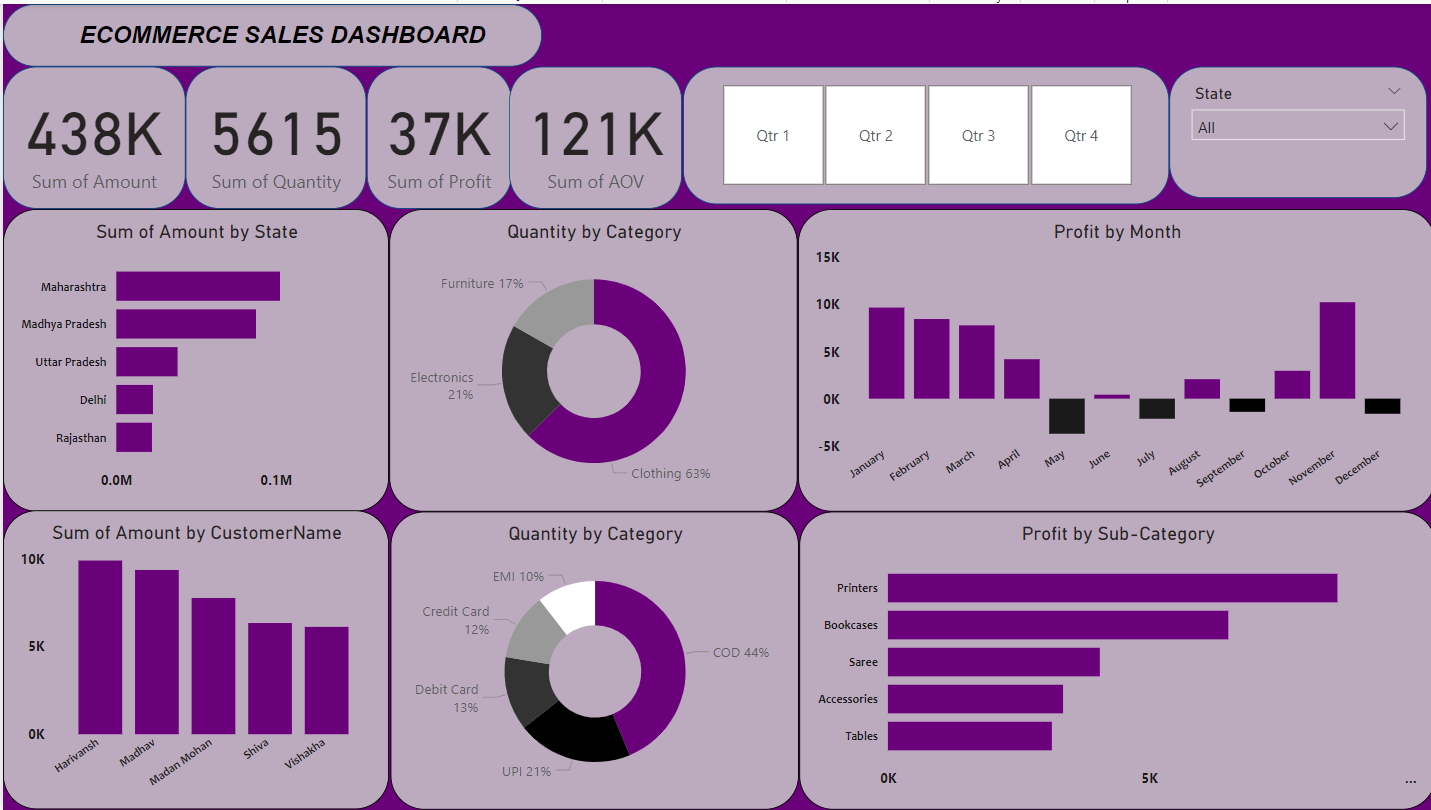

The page's visual inventory and layout, read from the dashboard file:
{"tool":"powerbi","page":{"name":"Page 1","canvas":[1280,720],"ordinal":0},"visuals":[{"type":"textbox","box":[0,0,602.3,65.1],"z":0},{"type":"columnChart","title":"      Profit by Month","fields":{"Category":["Ordersss.Order Date.Variation.Date Hierarchy.Month"],"Y":["Sum(Detailsss.Profit)"]},"box":[710.2,183.1,569.5,270.2],"z":1000},{"type":"barChart","title":"Profit by Sub-Category","fields":{"Category":["Detailsss.Sub-Category"],"Y":["Sum(Detailsss.Profit)"]},"box":[711.6,453.5,568.6,266.3],"z":2000},{"type":"donutChart","title":"Quantity by Category","fields":{"Category":["Detailsss.PaymentMode"],"Y":["Sum(Detailsss.Quantity)"]},"box":[346.5,453.5,365.1,266.3],"z":3000},{"type":"donutChart","title":"Quantity by Category","fields":{"Category":["Detailsss.Category"],"Y":["Sum(Detailsss.Quantity)"]},"box":[345,183.1,365.1,270.2],"z":4000},{"type":"card","fields":{"Values":["Sum(Detailsss.Amount)"]},"box":[0,65.1,211.6,117.4],"z":5000},{"type":"card","fields":{"Values":["Sum(Detailsss.Quantity)"]},"box":[211.6,65.1,200,117.4],"z":6000},{"type":"card","fields":{"Values":["Sum(Detailsss.Profit)"]},"box":[411.6,65.1,227.9,117.4],"z":7000},{"type":"card","fields":{"Values":["Sum(Detailsss.AOV)"]},"box":[636,65.1,243,117.4],"z":8000},{"type":"barChart","title":"Sum of Amount by State","fields":{"Category":["Ordersss.State"],"Y":["Sum(Detailsss.Amount)"]},"box":[0,183.1,345,270.2],"z":9000},{"type":"columnChart","fields":{"Category":["Ordersss.CustomerName"],"Y":["Sum(Detailsss.Amount)"]},"box":[0,452.2,345,266.9],"z":10000},{"type":"slicer","fields":{"Values":["Ordersss.Order Date.Variation.Date Hierarchy.Quarter"]},"box":[879.1,0,397.7,65.1],"z":11000},{"type":"slicer","fields":{"Values":["Ordersss.State"]},"box":[879.1,65.1,401.2,117.4],"z":12000}]}

Visuals, with their boxes in screenshot pixels (x1, y1, x2, y2), scaled from the page's 1280x720 canvas onto the 1431x810 screenshot:
textbox: bbox=(0, 0, 673, 73)
"      Profit by Month" columnChart: bbox=(794, 206, 1430, 510)
"Profit by Sub-Category" barChart: bbox=(796, 510, 1430, 809)
"Quantity by Category" donutChart: bbox=(387, 510, 796, 809)
"Quantity by Category" donutChart: bbox=(386, 206, 794, 510)
card - Sum(Detailsss.Amount): bbox=(0, 73, 237, 205)
card - Sum(Detailsss.Quantity): bbox=(237, 73, 460, 205)
card - Sum(Detailsss.Profit): bbox=(460, 73, 715, 205)
card - Sum(Detailsss.AOV): bbox=(711, 73, 983, 205)
"Sum of Amount by State" barChart: bbox=(0, 206, 386, 510)
columnChart - Ordersss.CustomerName x Sum(Detailsss.Amount): bbox=(0, 509, 386, 809)
slicer - Ordersss.Order Date.Variation.Date Hierarchy.Quarter: bbox=(983, 0, 1427, 73)
slicer - Ordersss.State: bbox=(983, 73, 1430, 205)
